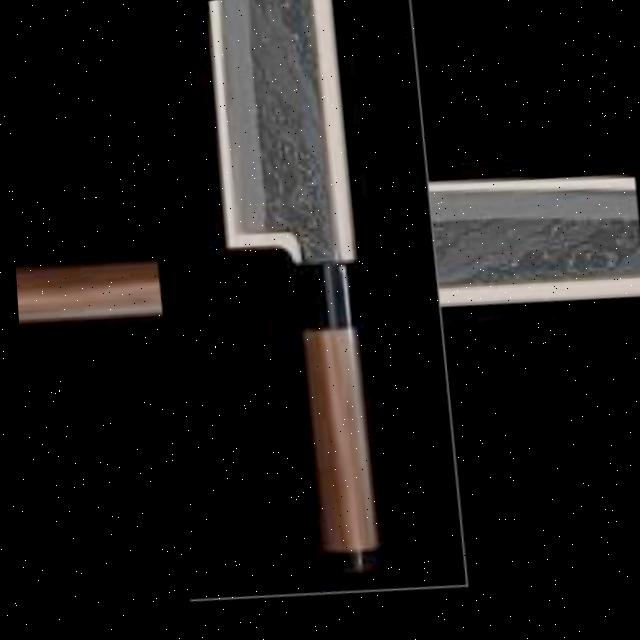knife: (8, 0, 587, 554)
